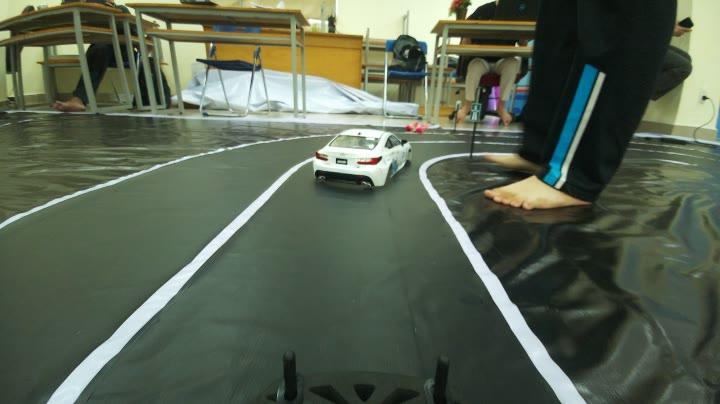car: (298, 118, 421, 194)
